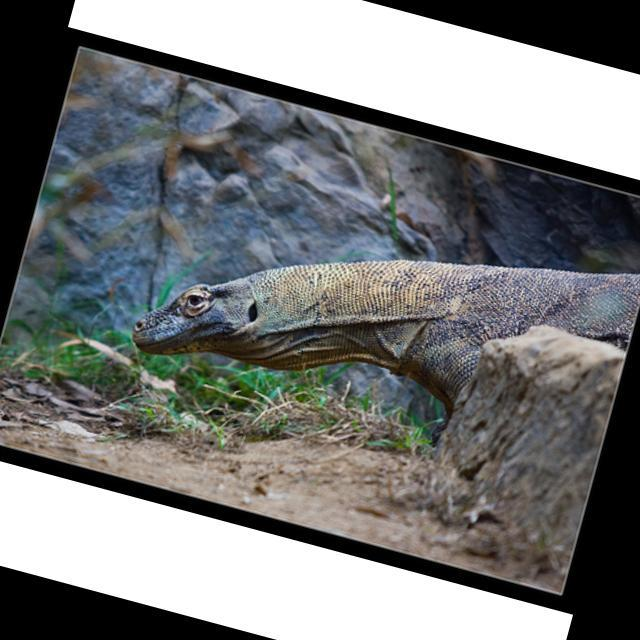KomodoDragon: (126, 141, 640, 472)
